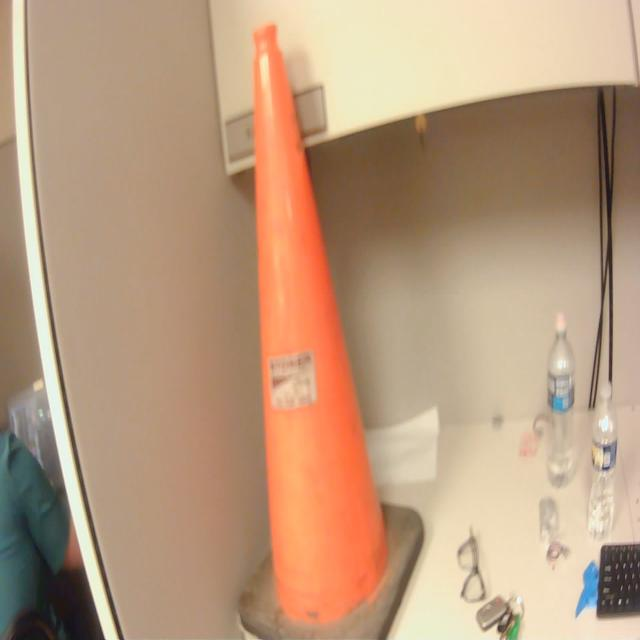traffic cone: (233, 18, 429, 640)
